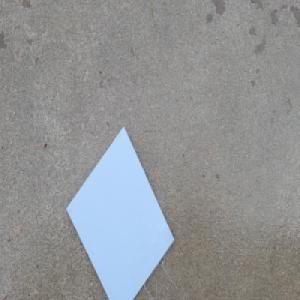PaintChip: (65, 125, 175, 300)
